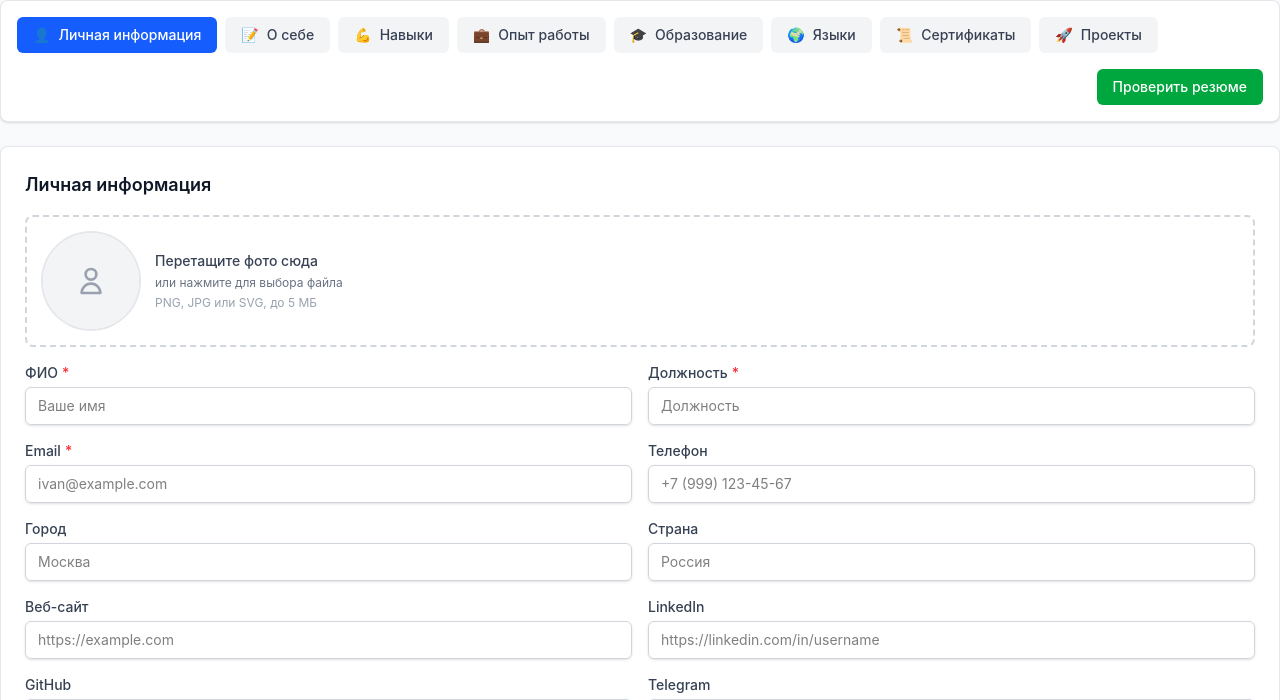
EditorPanel › should switch to summary section
Click the button "📝О себе".
click(278, 35)  # box [225, 17, 330, 53]
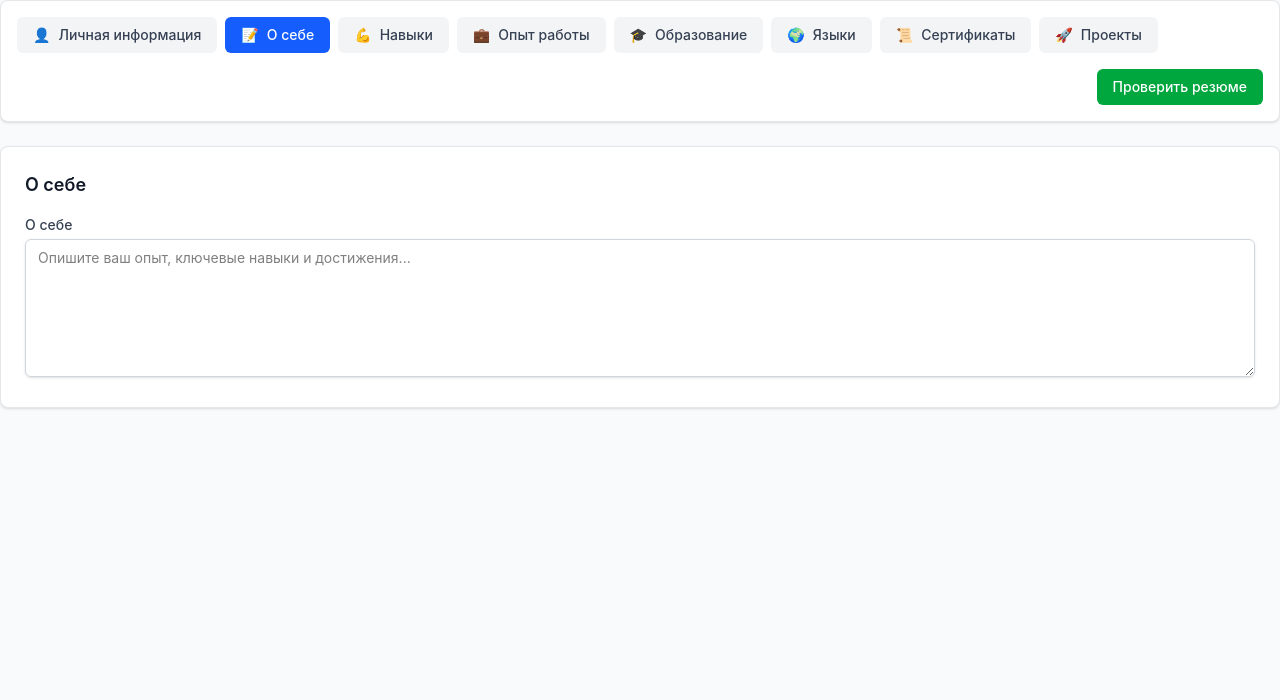
Now the text box with placeholder "Опишите ваш опыт, ключевые навыки и достижения..." is shown, box [25, 239, 1255, 377]
